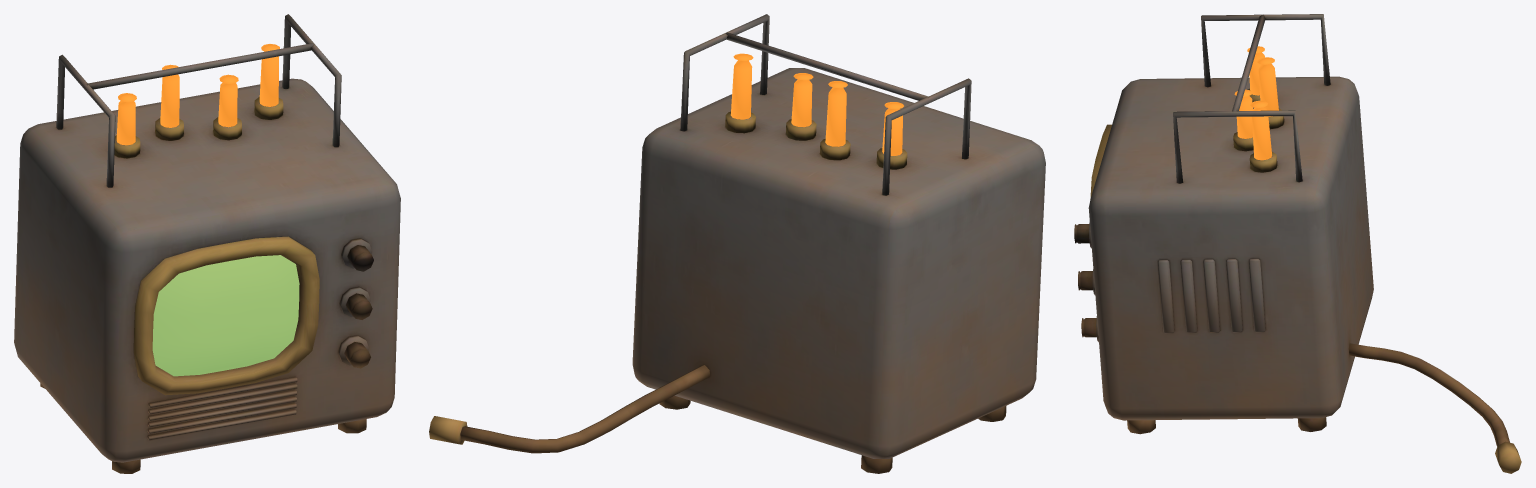
File: console.glb
The picture shows the model from 3 angles, left to right: view 1: azimuth 30°, elevation 25°; view 2: azimuth 150°, elevation 25°; view 3: azimuth 270°, elevation 25°; orthographic projection. The views are drawn at different scales.
Visible parts, largest first — view 1: console; view 2: console; view 3: console.
Part boxes in pixels (x1,y1,x2,y2): console: (14,14,400,473); console: (429,14,1045,473); console: (1074,14,1521,473).
Size of the model in its own units: 0.7446 by 0.627 by 0.7788.
Materials: 3 (1 with a texture image).
